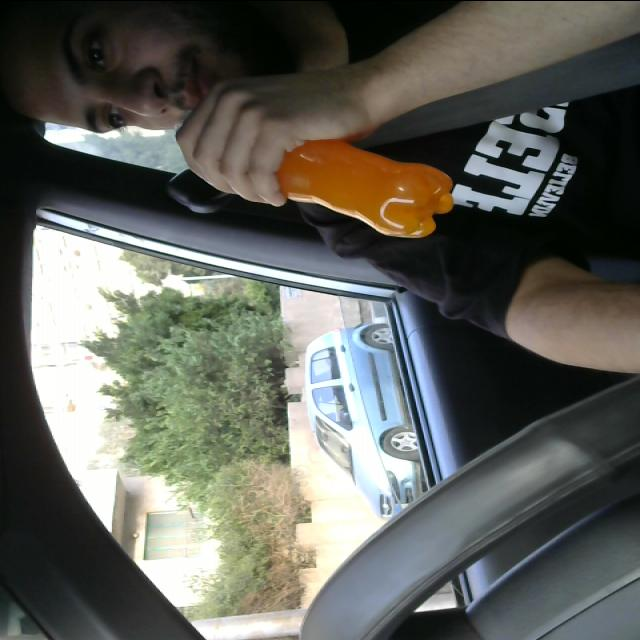drinking: (182, 96, 450, 252)
